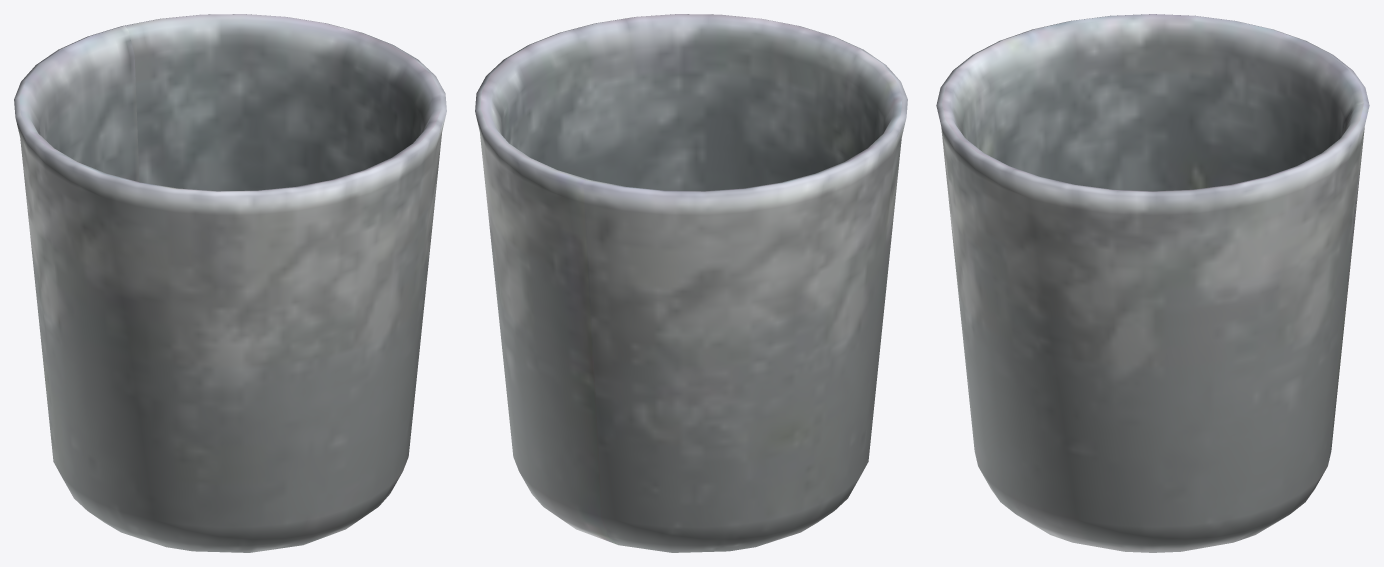
File: pencil_cup.lite.glb
3 renders of one model, left to right at view 1: azimuth 30°, elevation 25°; view 2: azimuth 150°, elevation 25°; view 3: azimuth 270°, elevation 25°, orthographic.
Visible parts, largest first — view 1: stationery_supplies_pencilcup; view 2: stationery_supplies_pencilcup; view 3: stationery_supplies_pencilcup.
Boxes of the visible parts, x1=… form: stationery_supplies_pencilcup: x1=14, y1=14, x2=446, y2=552; stationery_supplies_pencilcup: x1=475, y1=14, x2=907, y2=552; stationery_supplies_pencilcup: x1=936, y1=14, x2=1369, y2=552.
Size of the model in its own units: 0.0836 by 0.0839 by 0.0836.
1 material, 1 textured.
